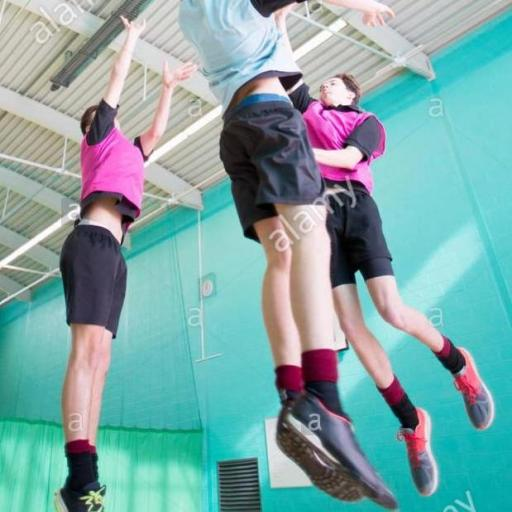person: (180, 0, 397, 508), (289, 75, 494, 495), (55, 18, 196, 511)
